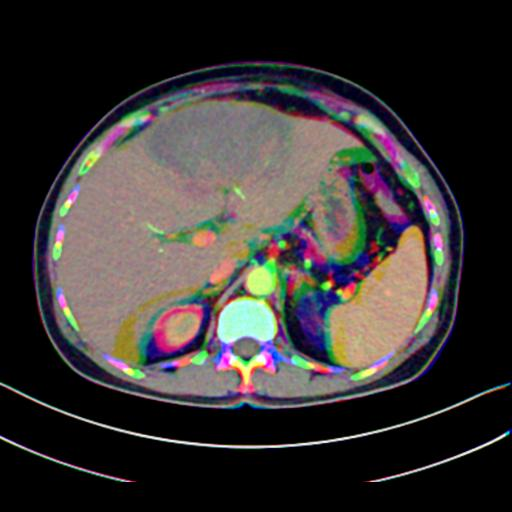Abscess: (144, 102, 294, 181)
